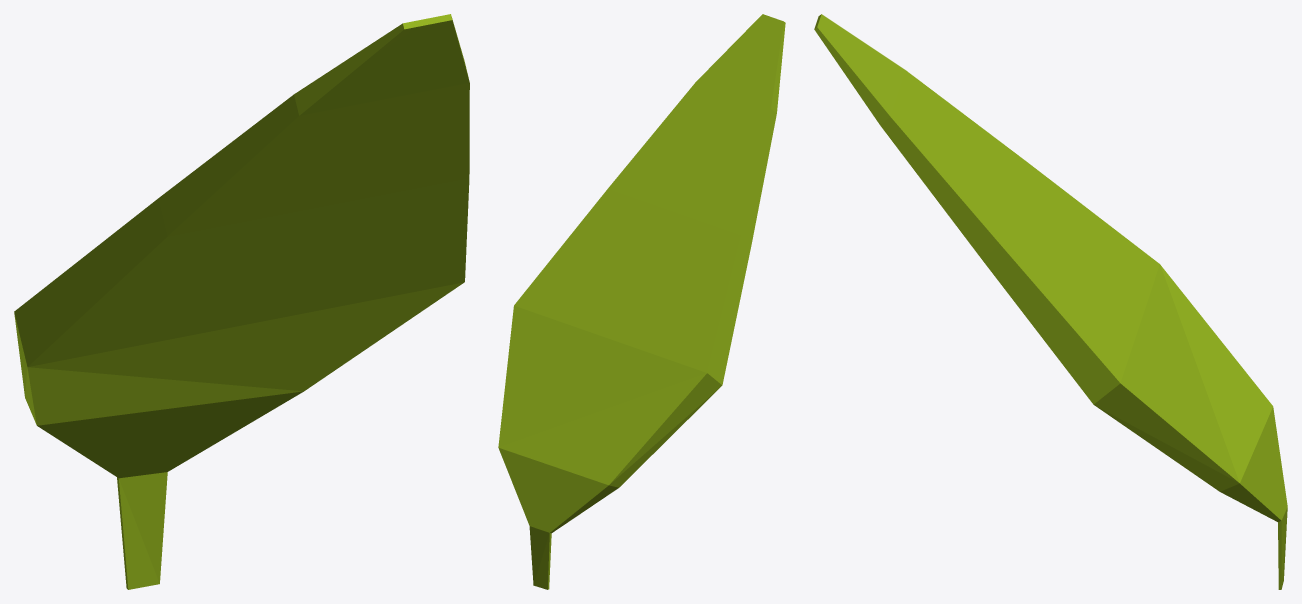
The model's file is Vegetation_Modular_Tree_Foliage_Common_Leaf_03.fbx.
3 views of the same model, side by side, from view 1: azimuth 30°, elevation 25°; view 2: azimuth 150°, elevation 25°; view 3: azimuth 270°, elevation 25° (orthographic). The views are drawn at different scales.
Visible parts, largest first — view 1: Vegetation_Modular_Tree_Foliage_Common_Leaf_03; view 2: Vegetation_Modular_Tree_Foliage_Common_Leaf_03; view 3: Vegetation_Modular_Tree_Foliage_Common_Leaf_03.
Boxes of the visible parts, x1=… form: Vegetation_Modular_Tree_Foliage_Common_Leaf_03: x1=14, y1=14, x2=469, y2=589; Vegetation_Modular_Tree_Foliage_Common_Leaf_03: x1=498, y1=14, x2=785, y2=589; Vegetation_Modular_Tree_Foliage_Common_Leaf_03: x1=814, y1=14, x2=1287, y2=589.
Bounding box in the file's own units: 380 × 750 × 597.
